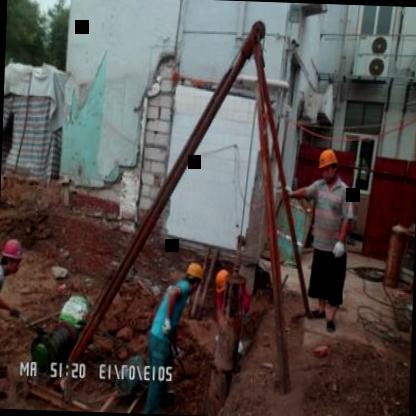helmet: (316, 145, 342, 183), (0, 237, 23, 273), (183, 260, 202, 296), (216, 268, 232, 300)
